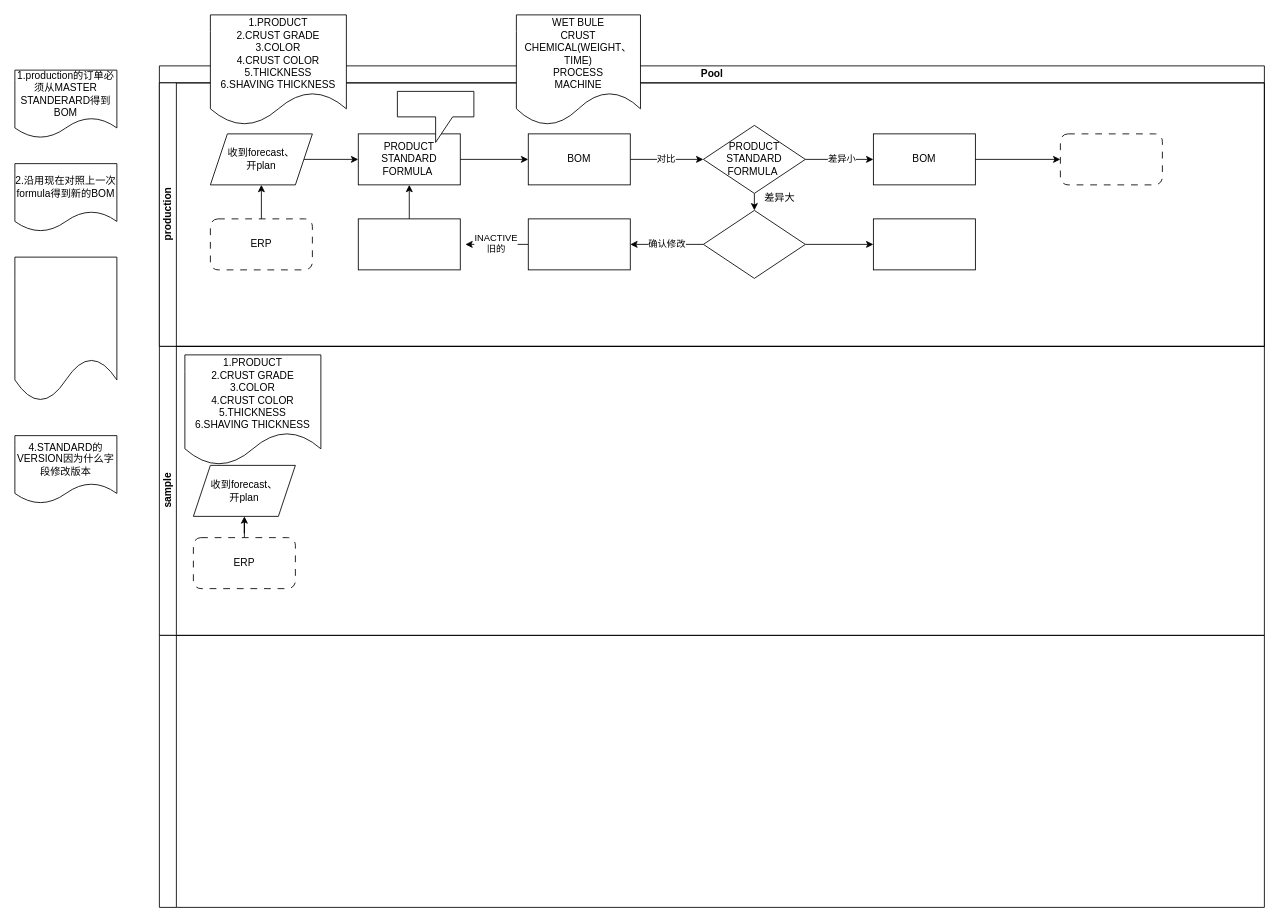
Some shapes in this 1279 by 922 pixel diagram are drawn without their labels. Here are the shapes that lost their labels. From the top down, the centre of each, then its label:
At (435,116): "MASTER STANDARD".
At (1111,159): "ERP、MES".
At (408,244): "active NEW STANDARD FORMULA".
At (578,244): "BOM 更新为 NEW STANDARD FORMULA update version".
At (754,244): "技师、资深人士 确认".
At (924,244): "保留PRODUCT STANDARD FORMULA".
At (65,329): "3.从MASTER STANDARD得到的修改变动大的BOM，需要技师，资深人士的确认是否更新STANDARD，发起更新操作".
At (711,771): "量产（大货/样板BOM）".
